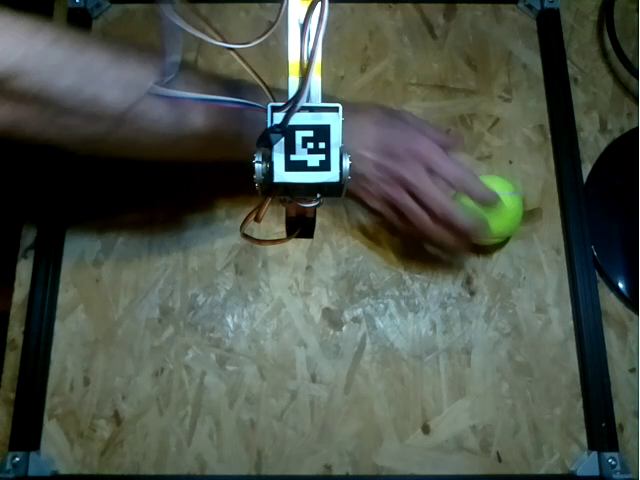tennis_ball: (455, 176, 524, 245)
